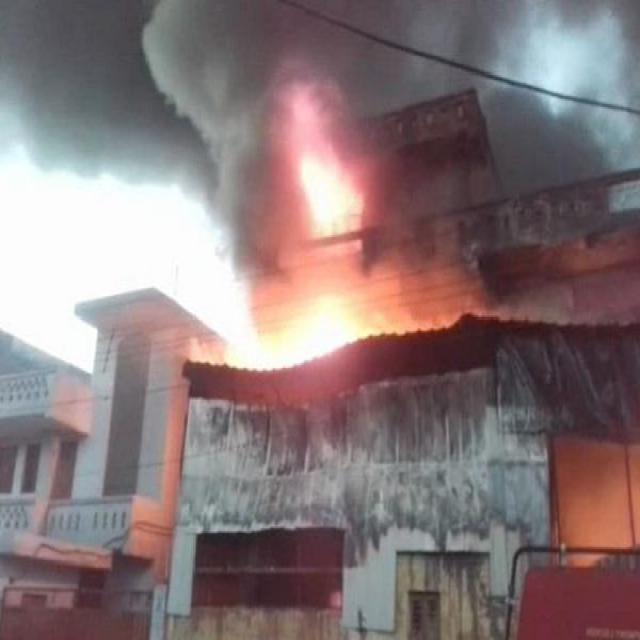fire: (225, 276, 397, 378), (278, 85, 372, 248)
